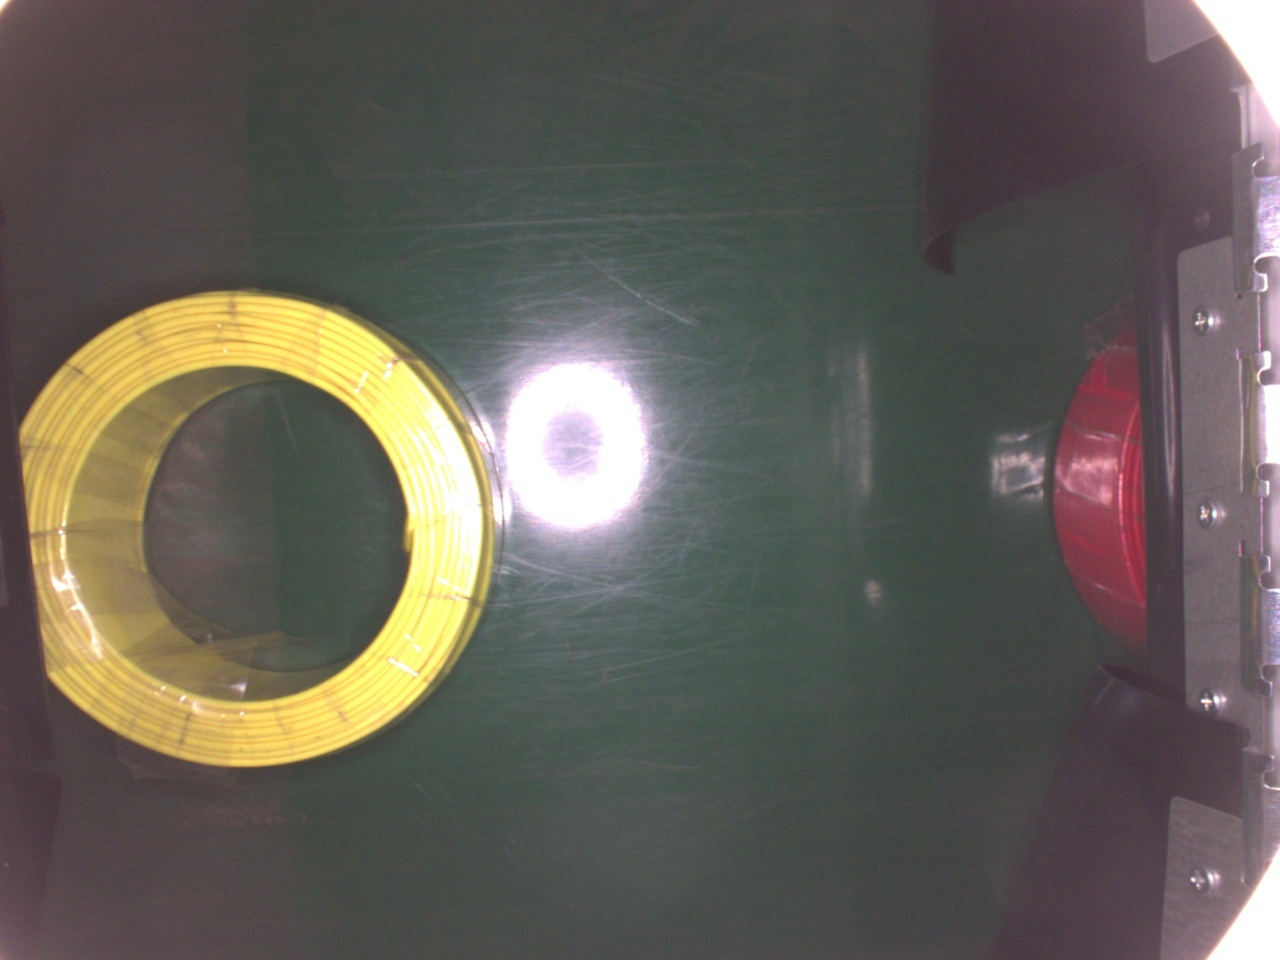yellow: (19, 287, 504, 768)
